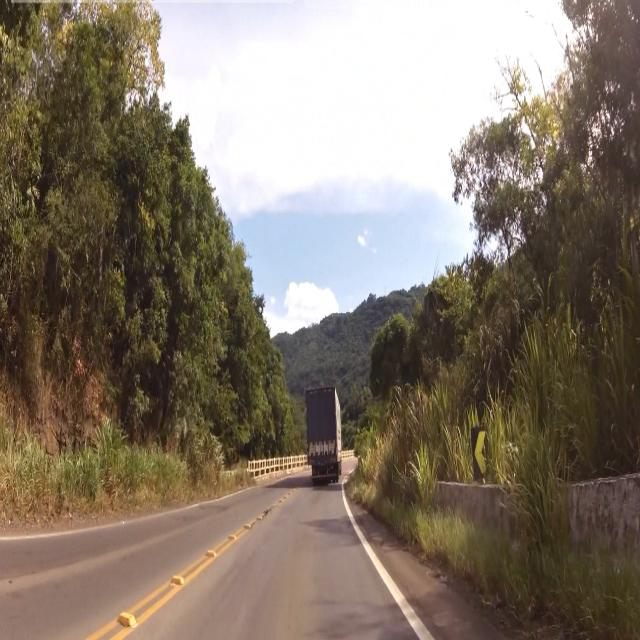Del: (472, 426, 491, 488)
